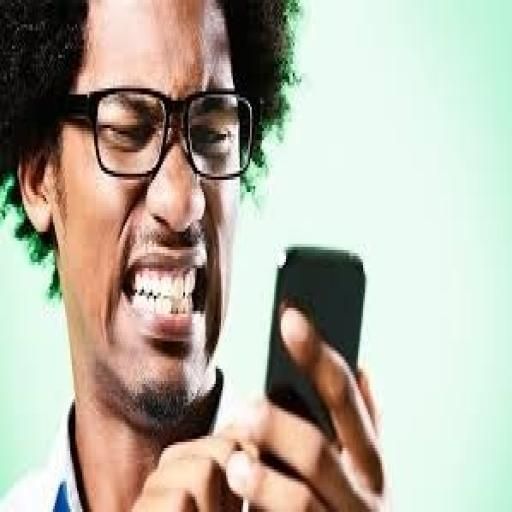calling: (0, 0, 389, 509)
